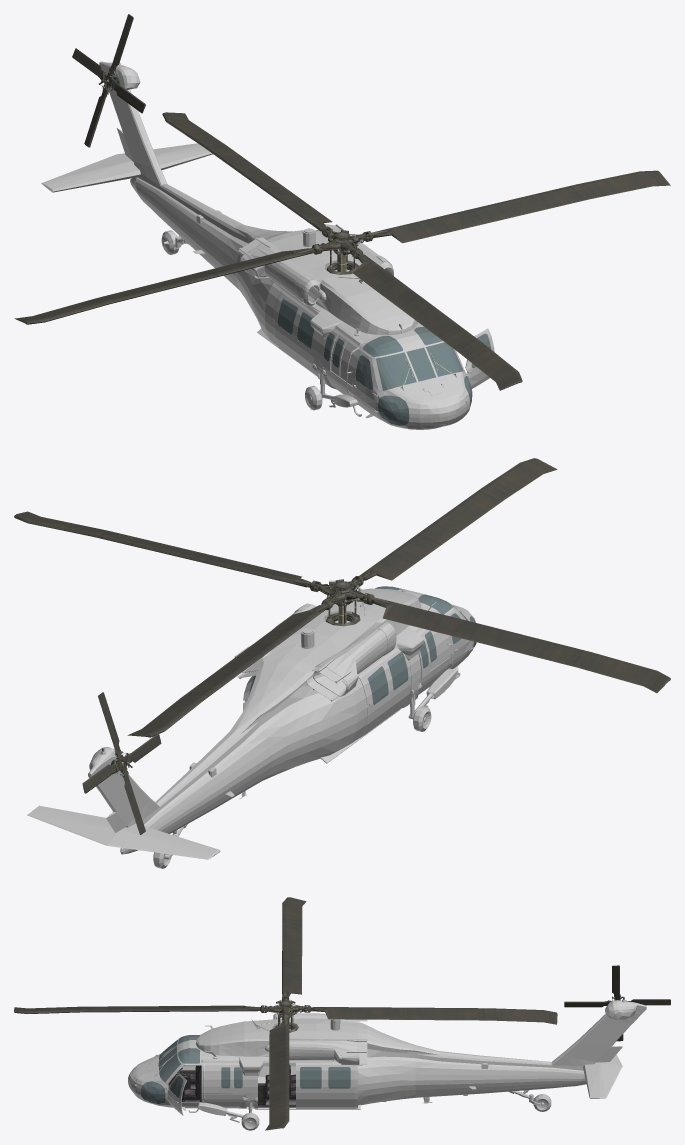
3 renders of one model, top to bottom at view 1: azimuth 30°, elevation 25°; view 2: azimuth 150°, elevation 25°; view 3: azimuth 270°, elevation 25°, orthographic. The views are drawn at different scales.
Parts seen in each view (by area): view 1: V05:Body, V05:Rotor01, V05:Rotor02; view 2: V05:Body, V05:Rotor01, V05:Rotor02; view 3: V05:Body, V05:Rotor01, V05:Door2, V05:Rotor02, V05:Door1.
Boxes of the visible parts, <box> form: V05:Body: <box>41,61,472,429</box>; V05:Rotor01: <box>14,112,670,390</box>; V05:Rotor02: <box>72,14,145,147</box>; V05:Body: <box>27,586,476,859</box>; V05:Rotor01: <box>14,458,670,737</box>; V05:Rotor02: <box>82,692,161,834</box>; V05:Body: <box>128,996,646,1122</box>; V05:Rotor01: <box>14,897,557,1130</box>; V05:Door2: <box>296,1061,357,1108</box>; V05:Rotor02: <box>564,965,670,1041</box>; V05:Door1: <box>167,1073,186,1115</box>.
Size of the model in its own units: 1983 by 600 by 2397.
